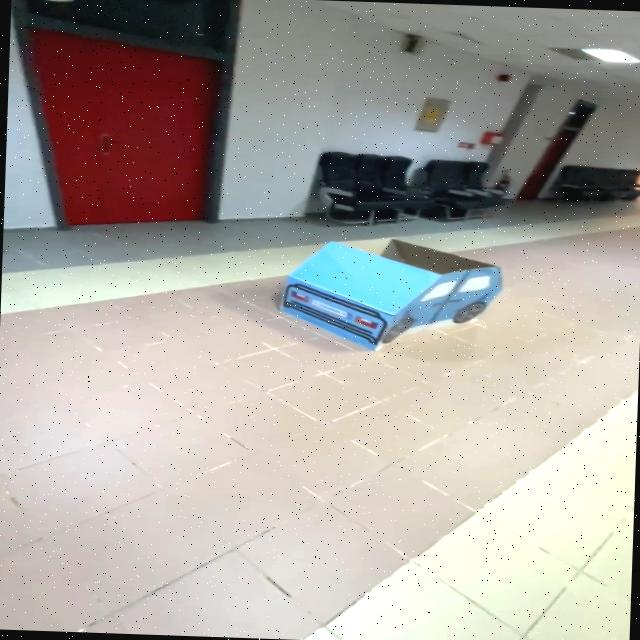blue_car: (257, 218, 547, 368)
